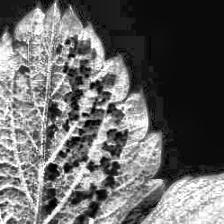Angular Leafspot: (0, 0, 168, 224), (76, 164, 224, 224)
